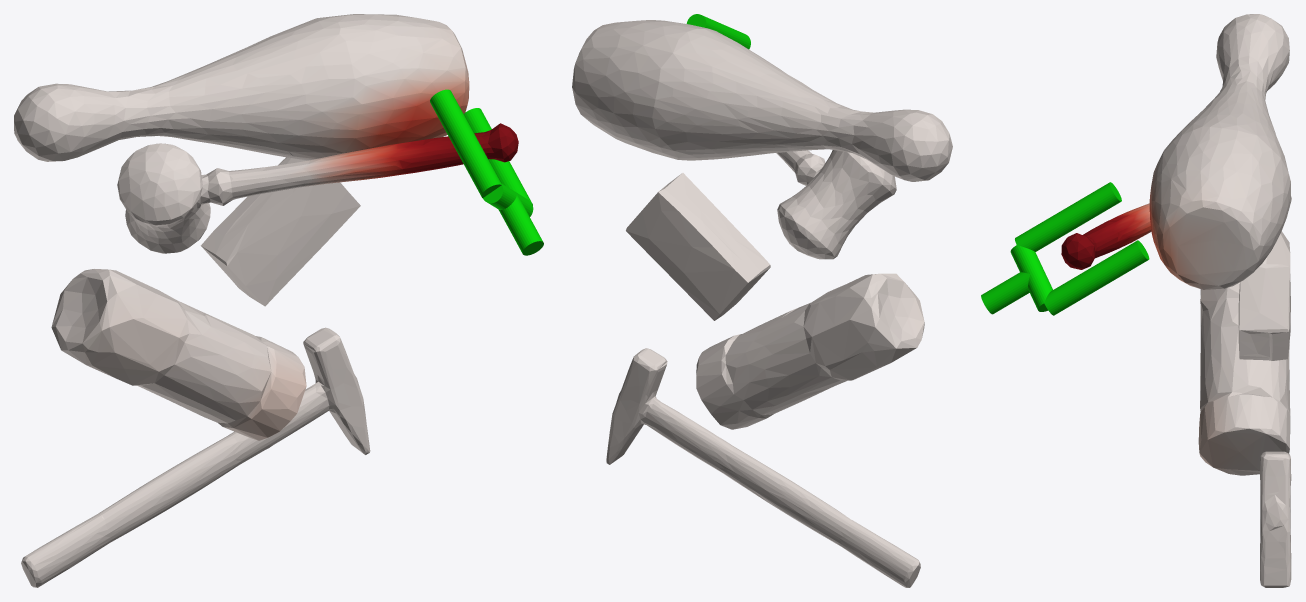
Rendered from round_000_trial_000.obj.
3 renders of one model, left to right at view 1: azimuth 30°, elevation 25°; view 2: azimuth 150°, elevation 25°; view 3: azimuth 270°, elevation 25°, orthographic. The views are drawn at different scales.
Visible parts, largest first — view 1: geometry_0, geometry_1; view 2: geometry_0, geometry_1; view 3: geometry_0, geometry_1.
Part boxes in pixels (x1=…): geometry_0: x1=14, y1=14, x2=518, y2=587; geometry_1: x1=430, y1=89, x2=543, y2=255; geometry_0: x1=572, y1=20, x2=952, y2=587; geometry_1: x1=686, y1=14, x2=750, y2=49; geometry_0: x1=1061, y1=14, x2=1291, y2=587; geometry_1: x1=981, y1=182, x2=1149, y2=315.
Bounding box in the file's own units: 0.1996 × 0.2405 × 0.1378.
